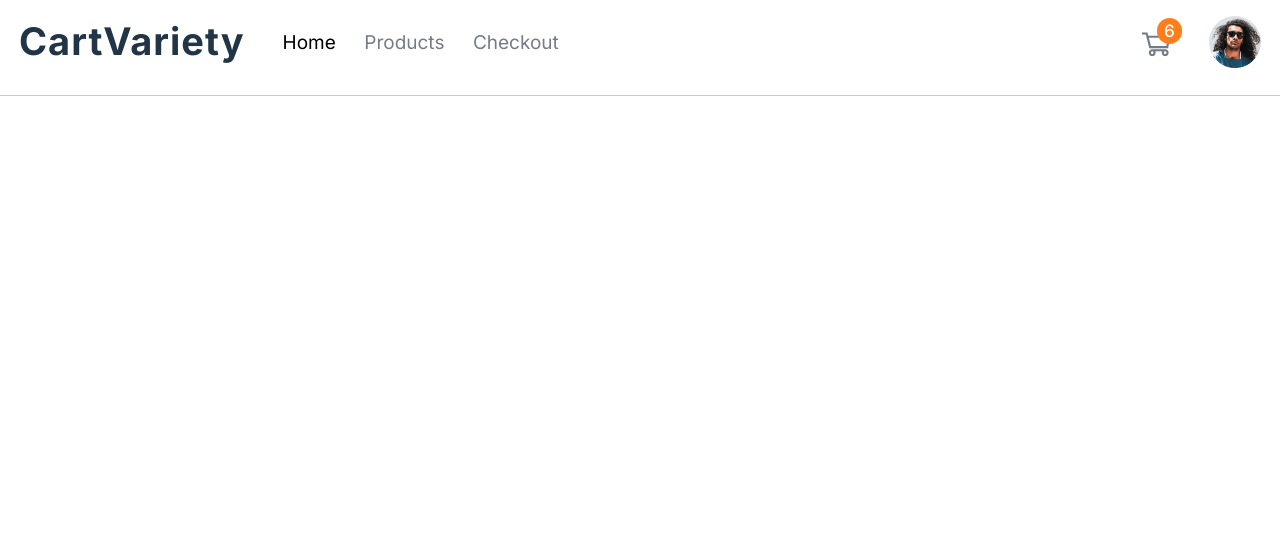
Scenario: Page header test. › Display cart.
The image size is (1280, 533).
Expected: the heading "CartVariety" is shown, [19,21,244,63]
Click the button named "Toggle display of cart items.": coordinates (1157, 42) [1142,26,1171,58]
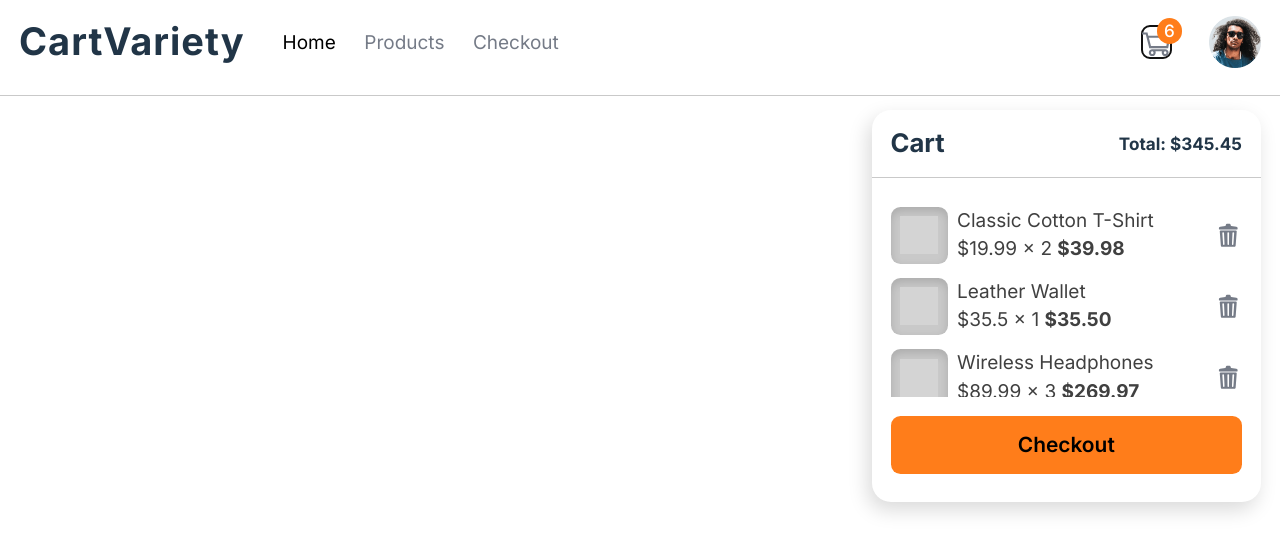
Now the heading "Cart" is shown, box [890,124,945,163]
